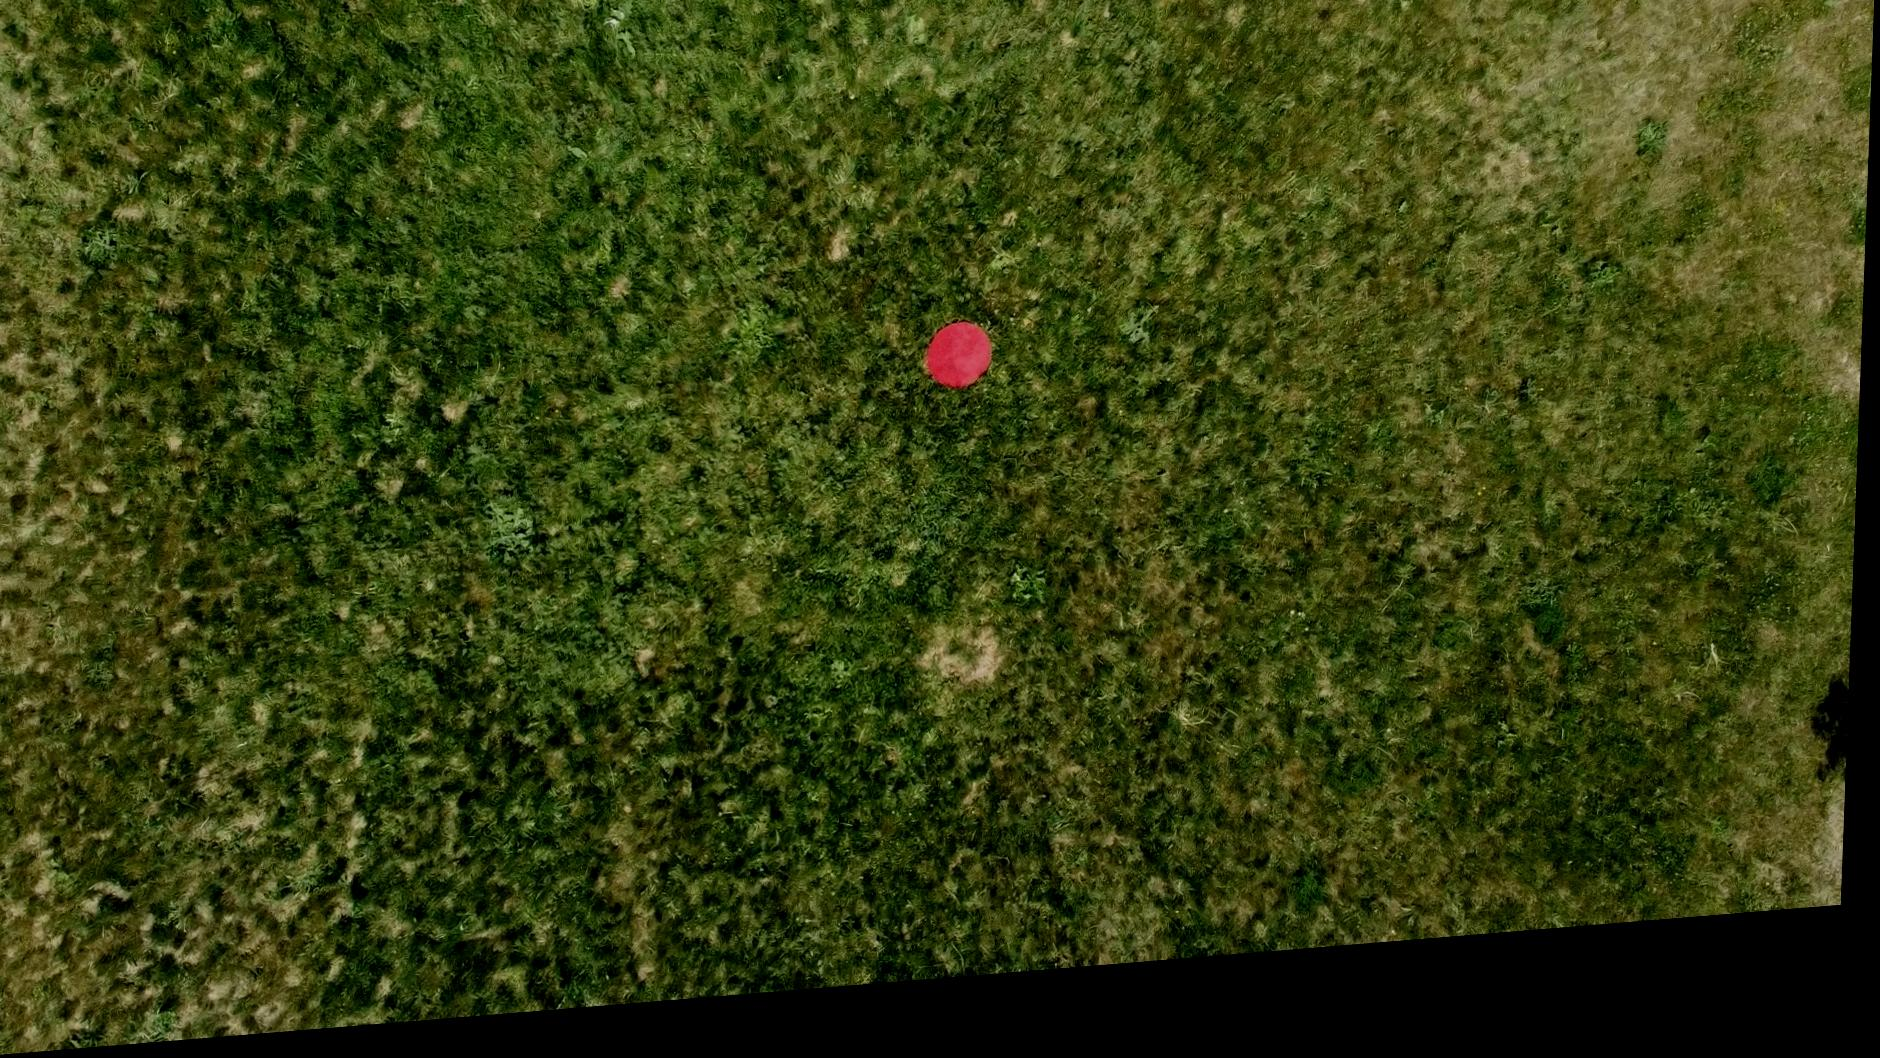Red: (927, 335, 997, 410)
